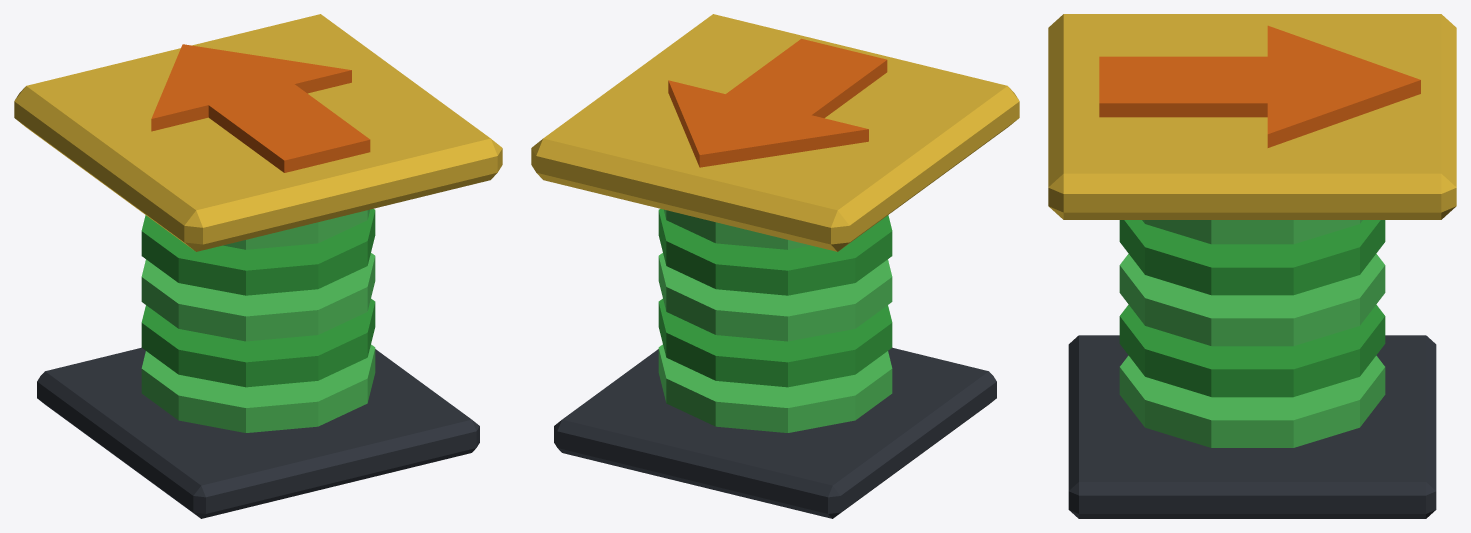
Rendered from pu_spring.glb.
3 views of the same model, side by side, from view 1: azimuth 30°, elevation 25°; view 2: azimuth 150°, elevation 25°; view 3: azimuth 270°, elevation 25° (orthographic). The views are drawn at different scales.
Parts seen in each view (by area): view 1: pu_spring; view 2: pu_spring; view 3: pu_spring.
Boxes of the visible parts, x1,y1,x2,y2 form: pu_spring: (14, 14, 502, 518); pu_spring: (531, 14, 1019, 518); pu_spring: (1048, 14, 1456, 518).
Size of the model in its own units: 0.8 by 0.79 by 0.8.
